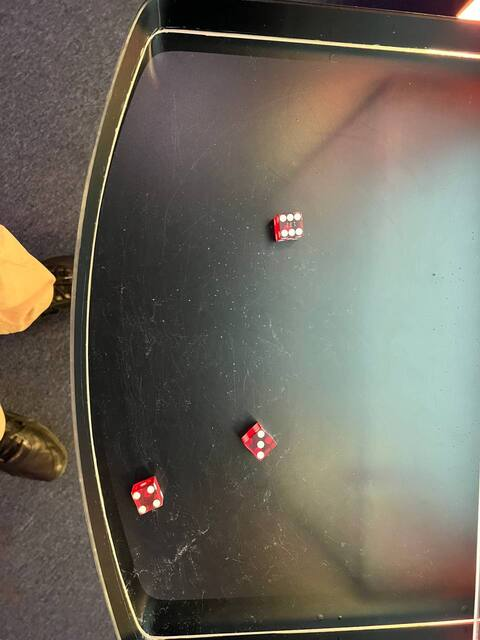four: (128, 482, 169, 519)
six: (274, 207, 305, 242)
three: (244, 427, 277, 464)
